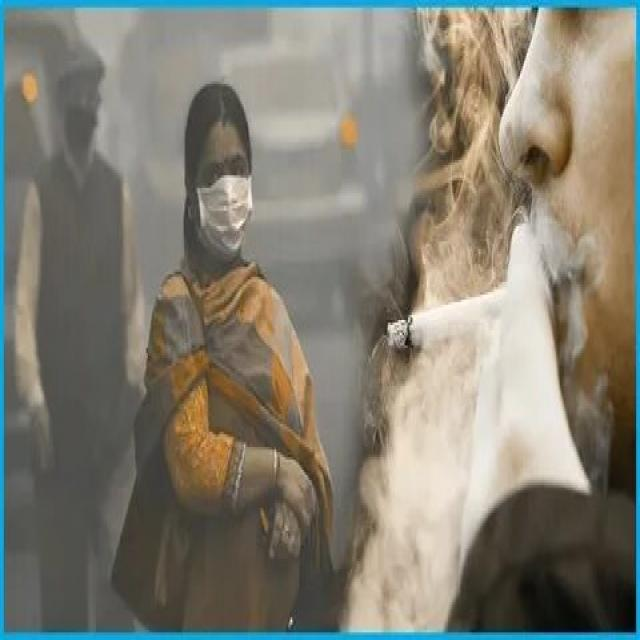cigarette: (380, 272, 513, 353)
